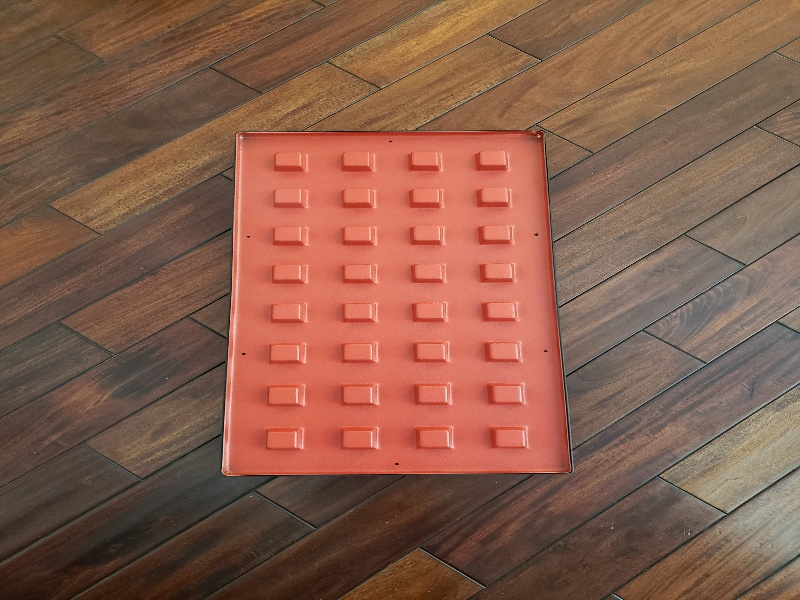skystone_base: (209, 116, 585, 488)
